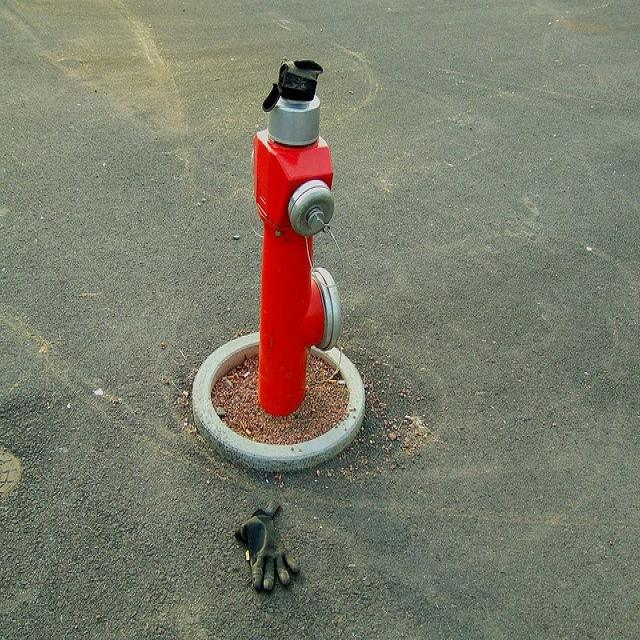fire_hydrant: (248, 49, 346, 427)
